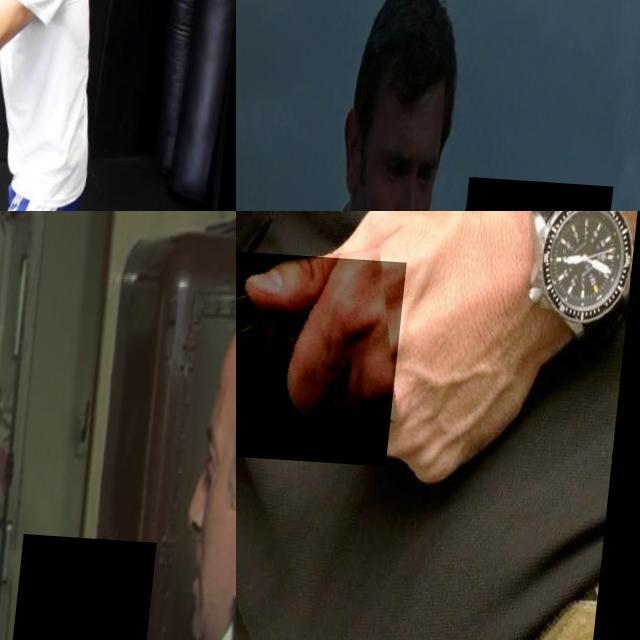-: (236, 241, 411, 460), (0, 113, 50, 188)
gun-knife-thesis - v11 Yolov5 augmented: (8, 530, 164, 640)
